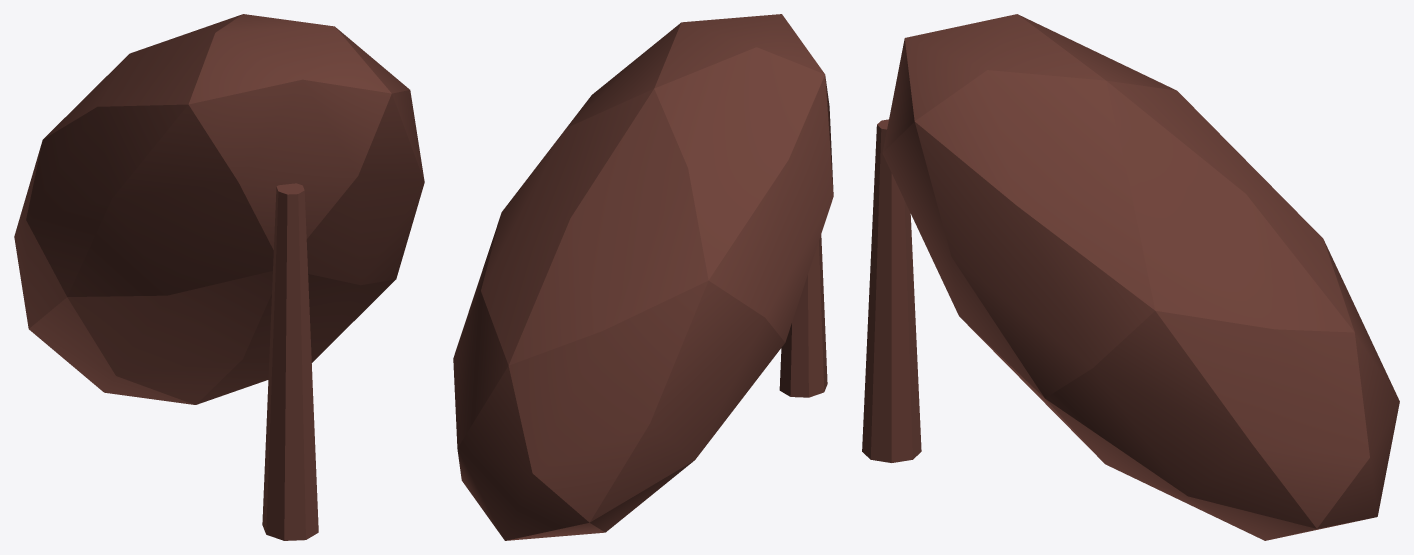
File: ProppedBoulder.fbx
3 renders of one model, left to right at view 1: azimuth 30°, elevation 25°; view 2: azimuth 150°, elevation 25°; view 3: azimuth 270°, elevation 25°, orthographic. The views are drawn at different scales.
Visible parts, largest first — view 1: icosphere, cylinderVertex_taper%; view 2: icosphere, cylinderVertex_taper%; view 3: icosphere, cylinderVertex_taper%.
Boxes of the visible parts, x1,y1,x2,y2 form: icosphere: [14, 14, 424, 404]; cylinderVertex_taper%: [262, 183, 318, 540]; icosphere: [453, 14, 833, 540]; cylinderVertex_taper%: [779, 234, 827, 397]; icosphere: [882, 14, 1399, 540]; cylinderVertex_taper%: [862, 119, 921, 462].
Size of the model in its own units: 28.98 by 39.6 by 41.73.
